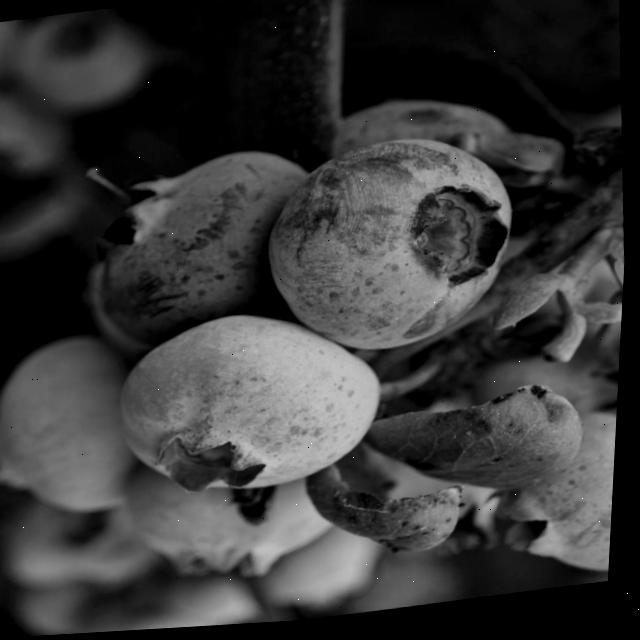RipeBlueBerry: (83, 142, 319, 351)
Semi-RipeBlueBerry: (256, 129, 529, 368)
UnripeBlueBerry: (108, 297, 399, 512), (125, 454, 347, 588), (0, 329, 151, 524)
